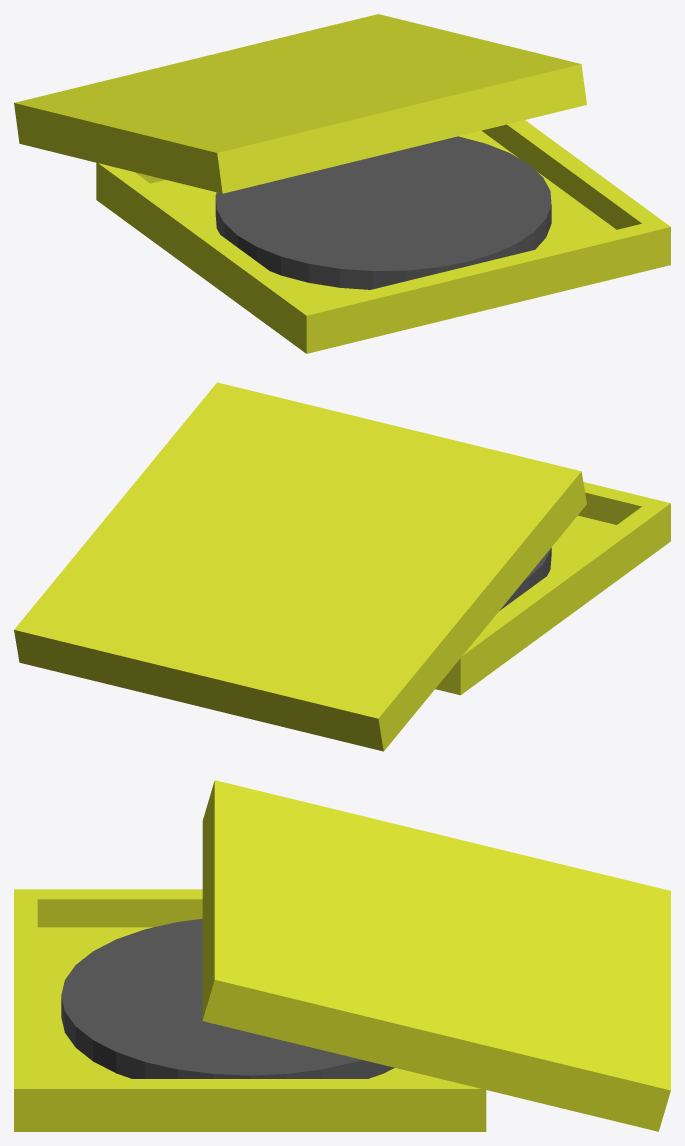
Rendered from pizza.glb.
The picture shows the model from 3 angles, top to bottom: view 1: azimuth 30°, elevation 25°; view 2: azimuth 150°, elevation 25°; view 3: azimuth 270°, elevation 25°; orthographic projection. The views are drawn at different scales.
Visible parts, largest first — view 1: pizza; view 2: pizza; view 3: pizza.
Part boxes in pixels (x1,y1,x2,y2): pizza: (14, 14, 670, 353); pizza: (14, 382, 670, 751); pizza: (14, 780, 670, 1131).
Size of the model in its own units: 2 by 0.7108 by 2.78.
